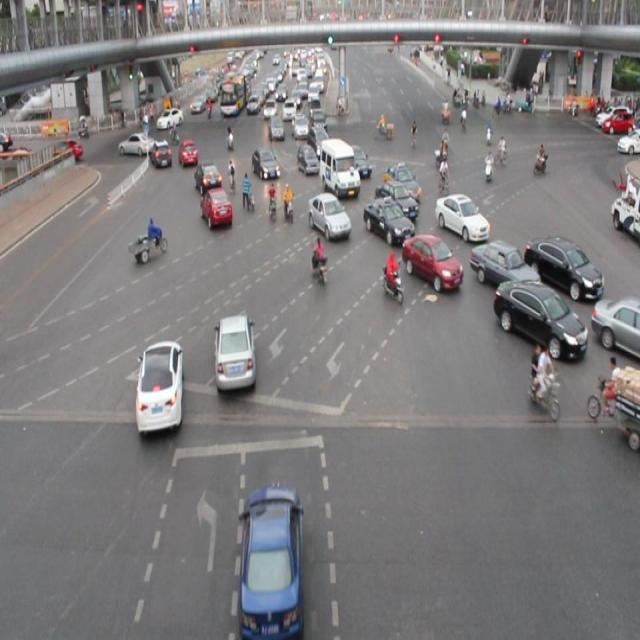car: (239, 481, 303, 633), (495, 282, 583, 360), (522, 237, 602, 299), (135, 336, 186, 431), (469, 239, 539, 298), (212, 310, 257, 398), (400, 231, 461, 295), (591, 295, 640, 358), (434, 190, 489, 244), (362, 194, 410, 246), (306, 192, 352, 242), (374, 178, 417, 220), (383, 158, 420, 201), (199, 187, 232, 230), (250, 144, 280, 182), (347, 139, 372, 181), (193, 162, 222, 198), (118, 133, 157, 159), (295, 141, 320, 178), (150, 139, 174, 170), (178, 138, 198, 168)
truck: (318, 138, 359, 196)
